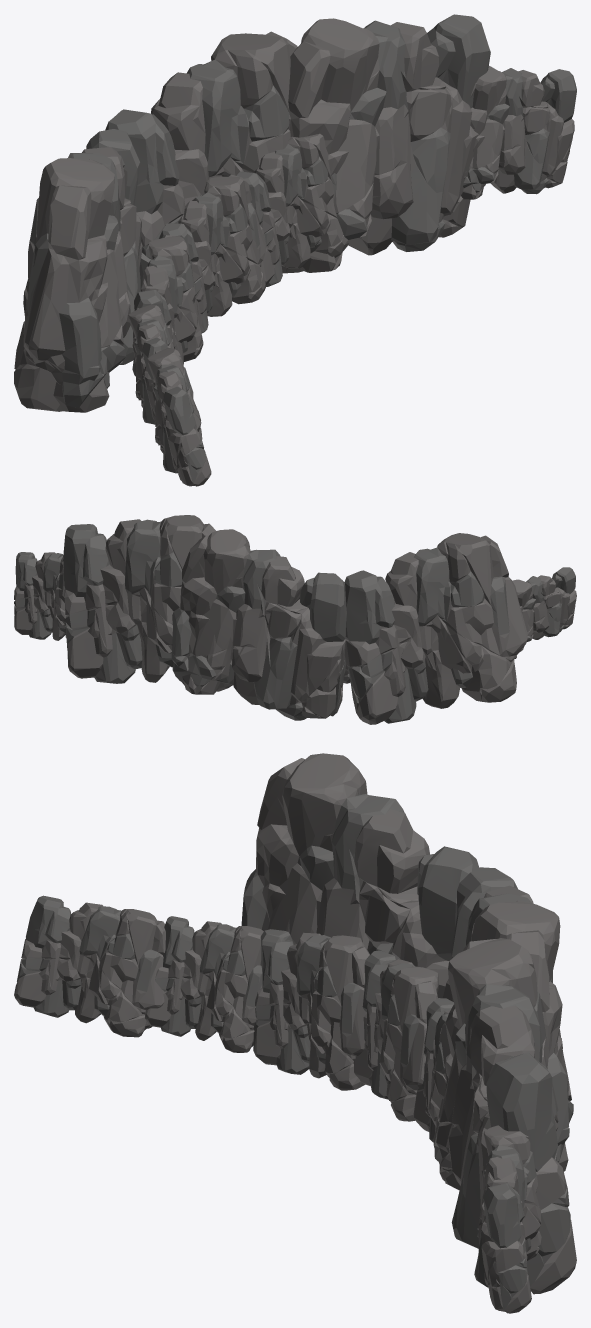
Rendered from RocksTwo.fbx.
The picture shows the model from 3 angles, top to bottom: view 1: azimuth 30°, elevation 25°; view 2: azimuth 150°, elevation 25°; view 3: azimuth 270°, elevation 25°; orthographic projection. The views are drawn at different scales.
Parts seen in each view (by area): view 1: rock_a__1_; view 2: rock_a__1_; view 3: rock_a__1_.
Boxes of the visible parts, bbox=[...] form: rock_a__1_: bbox=[14, 14, 576, 486]; rock_a__1_: bbox=[14, 515, 576, 724]; rock_a__1_: bbox=[14, 753, 576, 1313].
Size of the model in its own units: 3021 by 1127 by 2038.
